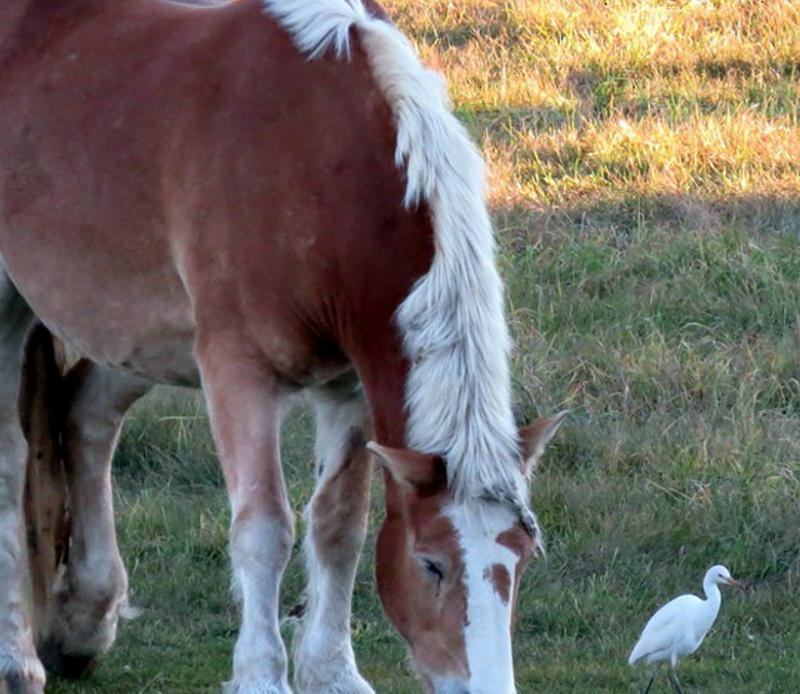egret: (610, 562, 747, 690)
